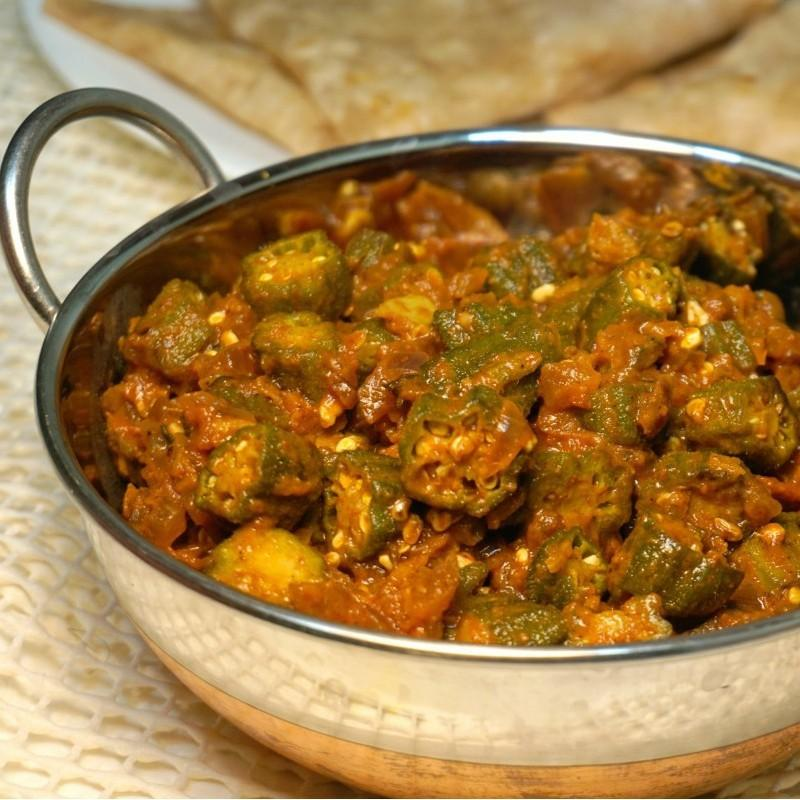BhindiMasala: (100, 199, 800, 649)
